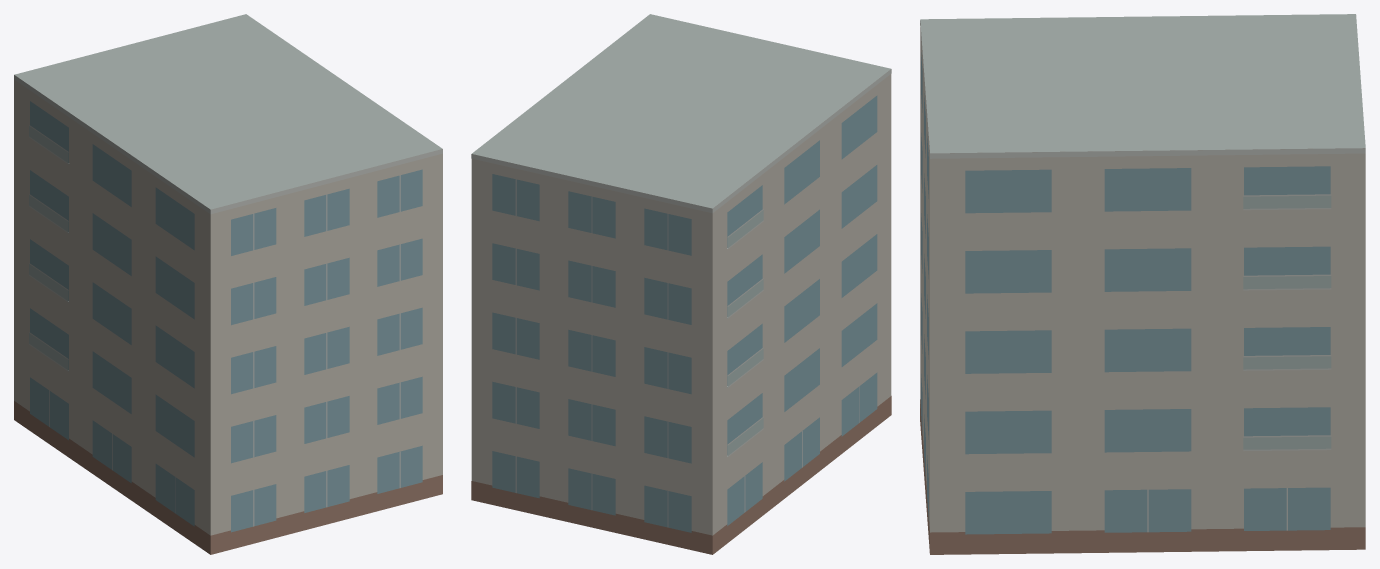
Rendered from survey-upis-32840844.glb.
3 renders of one model, left to right at view 1: azimuth 30°, elevation 25°; view 2: azimuth 150°, elevation 25°; view 3: azimuth 270°, elevation 25°, orthographic. The views are drawn at different scales.
Parts seen in each view (by area): view 1: survey-upis-32840844.tmp; view 2: survey-upis-32840844.tmp; view 3: survey-upis-32840844.tmp.
Part boxes in pixels (bbox=[...]): survey-upis-32840844.tmp: bbox=[14, 14, 442, 554]; survey-upis-32840844.tmp: bbox=[471, 14, 891, 554]; survey-upis-32840844.tmp: bbox=[920, 14, 1365, 554].
Size of the model in its own units: 13.31 by 17.87 by 17.98.
